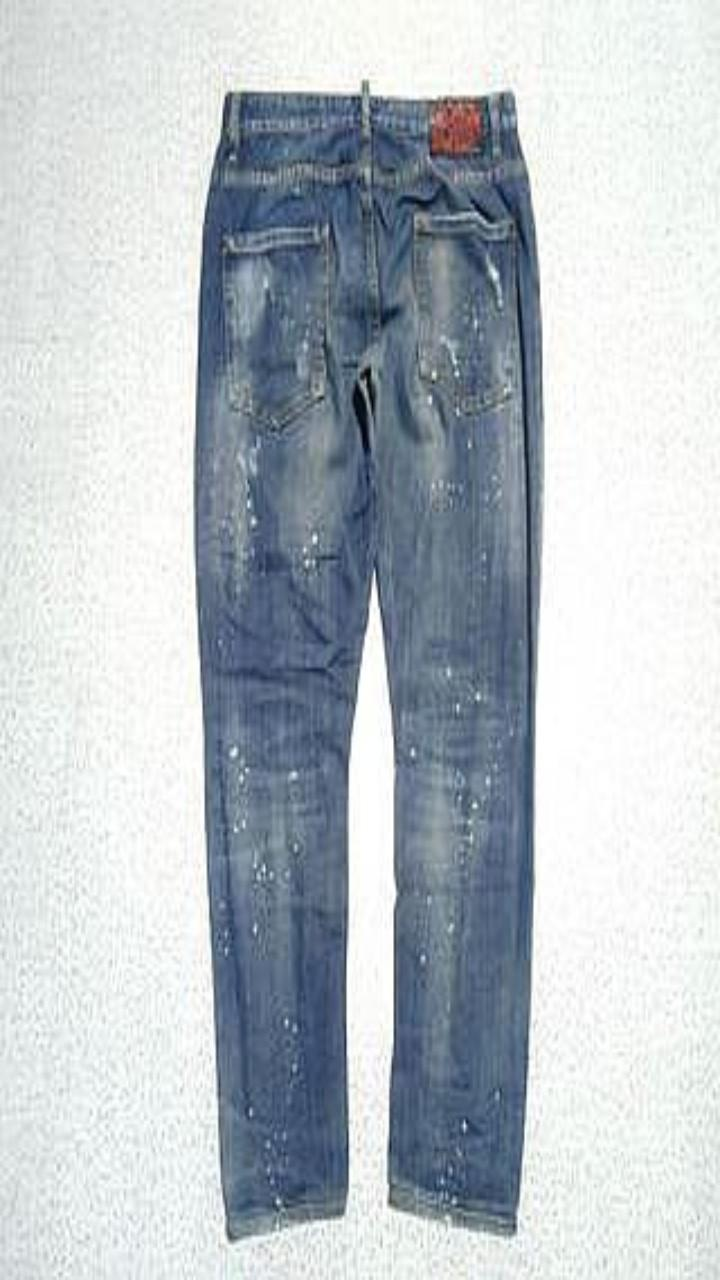Jeans: (194, 80, 542, 1238)
